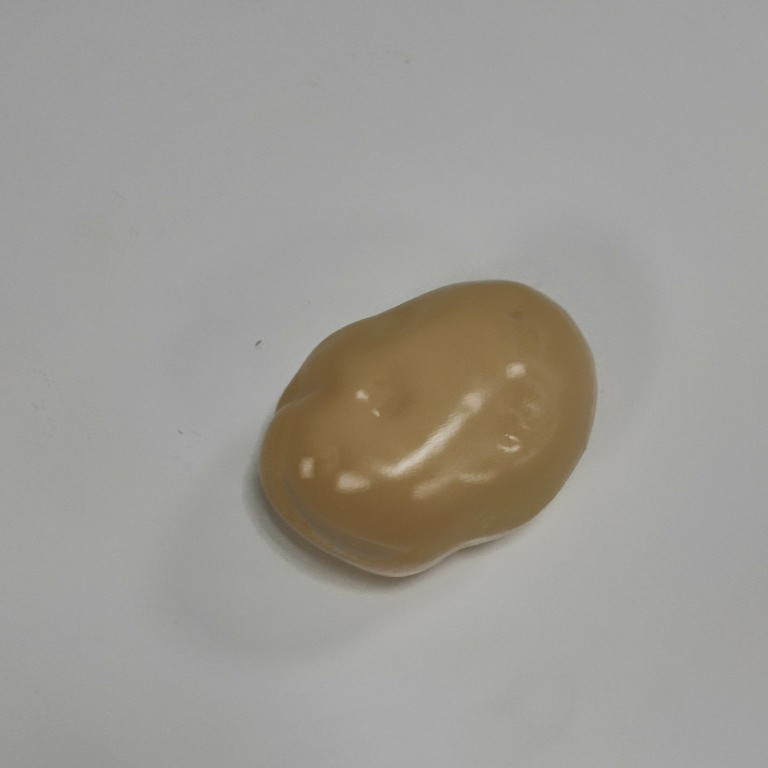fruit_potato: (251, 275, 602, 581)
